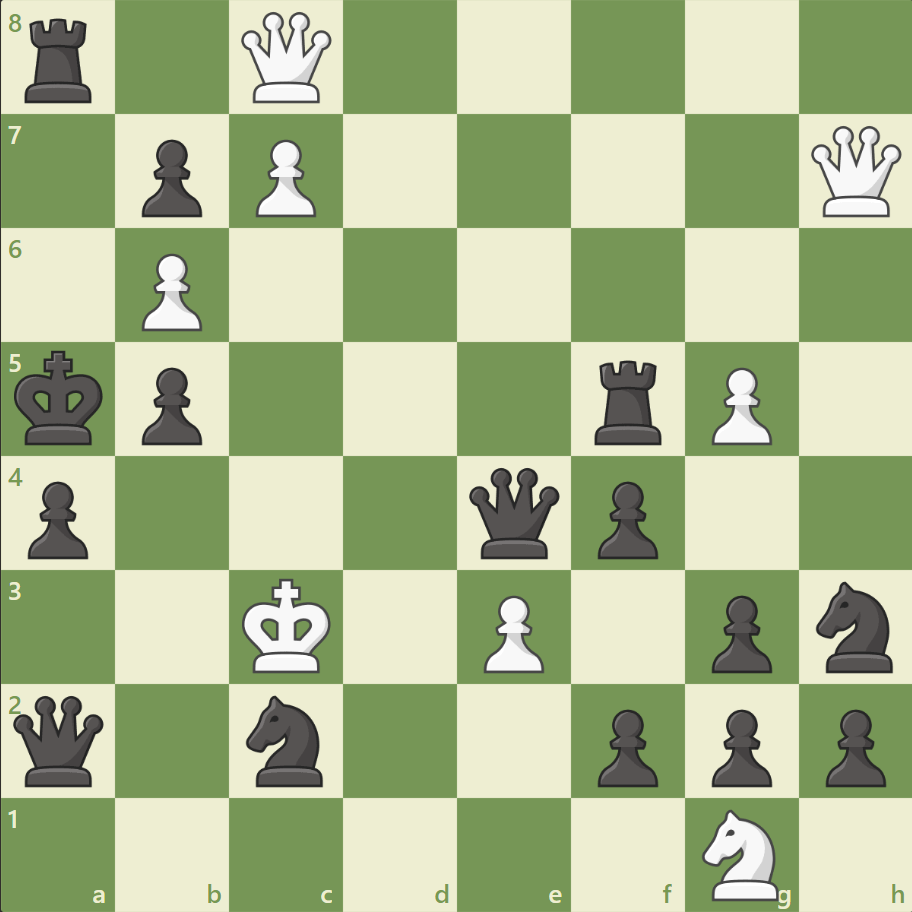K: (238, 571, 338, 679)
N: (692, 802, 789, 904)
P: (247, 132, 322, 223), (133, 246, 208, 337), (701, 359, 776, 450), (474, 586, 549, 677)
Q: (805, 122, 904, 222), (237, 9, 336, 108)
k: (11, 344, 111, 452)
n: (238, 688, 335, 791), (806, 575, 903, 677)
p: (133, 132, 208, 223), (133, 359, 208, 450), (20, 473, 95, 564), (701, 586, 776, 677), (701, 700, 776, 791), (588, 473, 662, 564), (588, 700, 662, 791), (815, 700, 889, 791)
q: (464, 463, 563, 562), (10, 690, 109, 789)
r: (19, 12, 102, 109), (587, 352, 670, 449)
